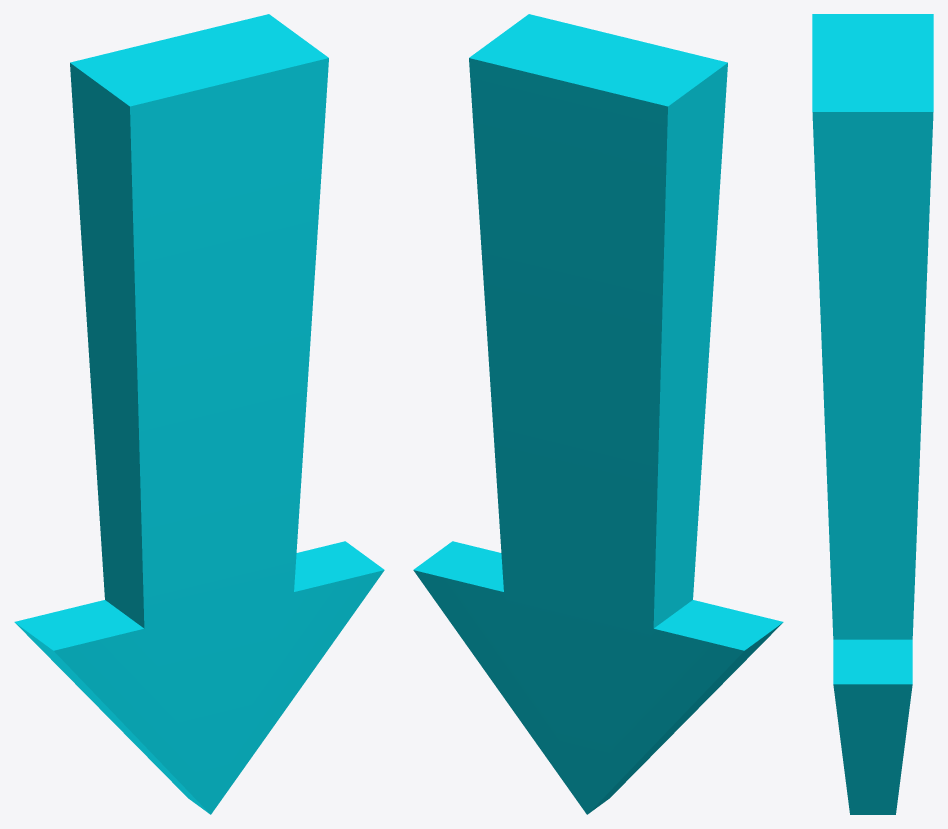
Rendered from SM_ArrowLong.FBX.
The picture shows the model from 3 angles, left to right: view 1: azimuth 30°, elevation 25°; view 2: azimuth 150°, elevation 25°; view 3: azimuth 270°, elevation 25°; orthographic projection.
Visible parts, largest first — view 1: Arrow_Long; view 2: Arrow_Long; view 3: Arrow_Long.
Part boxes in pixels (box(x1,y1,x2,y2)): Arrow_Long: box(14, 14, 384, 814); Arrow_Long: box(413, 14, 783, 814); Arrow_Long: box(812, 14, 933, 814).
Bounding box in the file's own units: 29.66 × 9.32 × 63.87.
